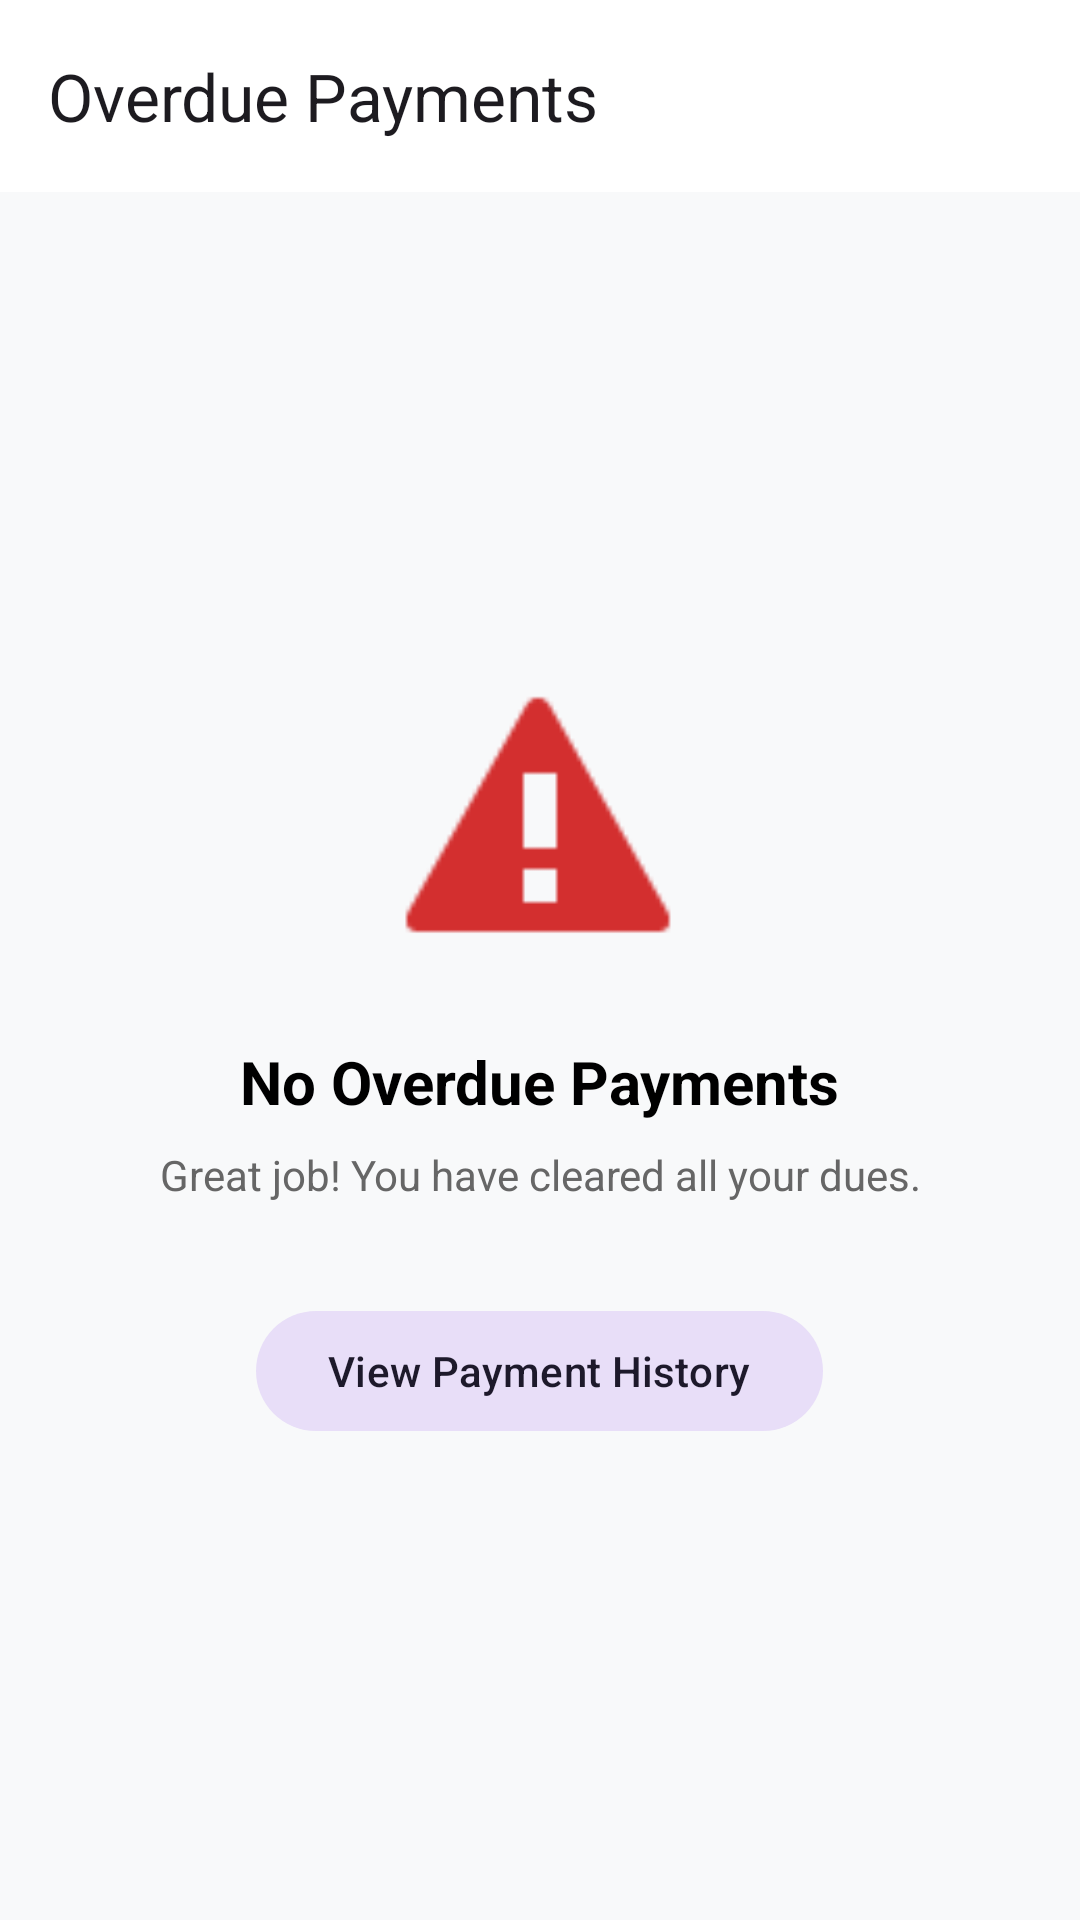

Icons on this 1080px x 1920px Android screen, each with its box as (x1, y1, x2, y2):
warning: (405, 697, 671, 933)
